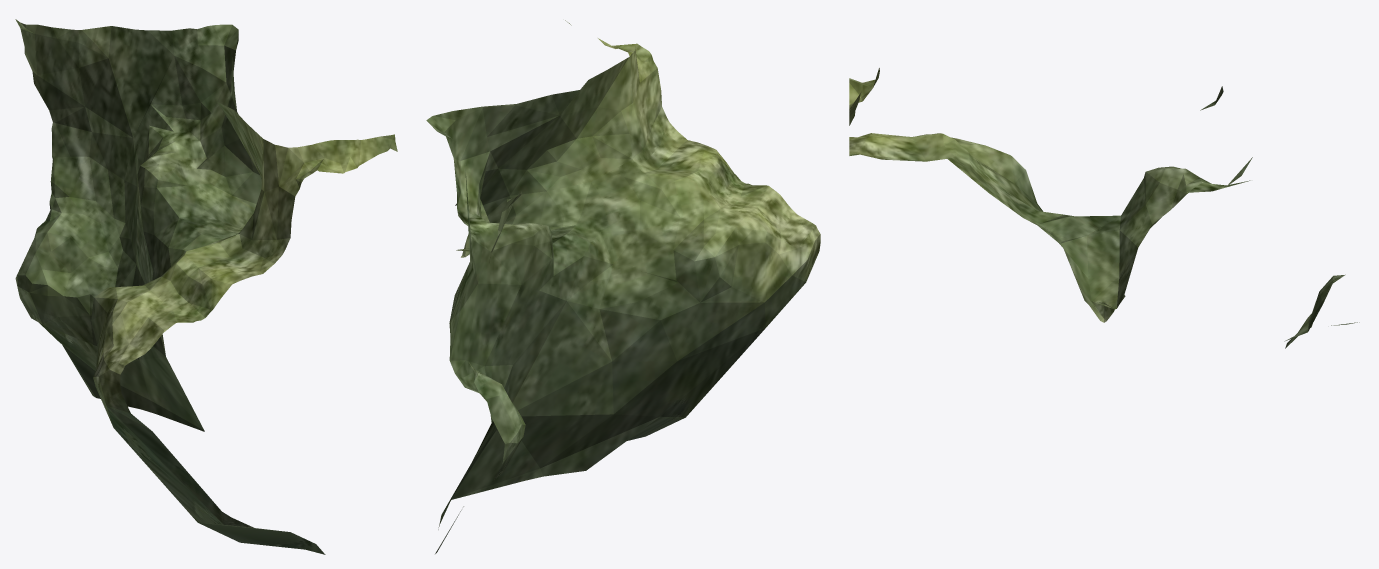
3 renders of one model, left to right at view 1: azimuth 30°, elevation 25°; view 2: azimuth 150°, elevation 25°; view 3: azimuth 270°, elevation 25°, orthographic. The views are drawn at different scales.
Size of the model in its own units: 2.16 by 2.95 by 2.95.
4 materials, 4 textured.
